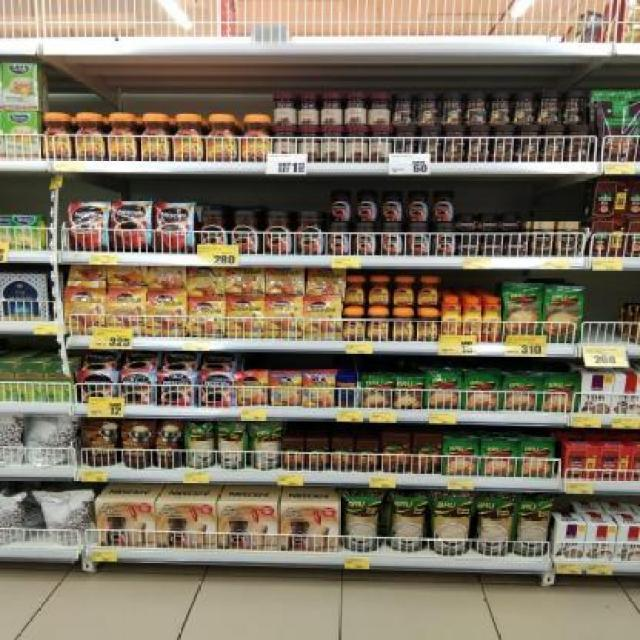Coffee: (64, 287, 106, 336), (69, 201, 109, 252), (156, 202, 195, 253), (114, 201, 151, 252), (108, 287, 146, 336), (148, 289, 187, 336), (205, 113, 238, 160), (228, 296, 264, 339), (305, 296, 340, 339), (189, 297, 226, 337), (268, 296, 301, 340), (173, 114, 203, 162), (137, 114, 168, 160), (74, 113, 104, 159), (243, 115, 272, 162), (43, 113, 72, 159), (107, 114, 136, 160), (158, 371, 194, 406), (80, 370, 114, 406), (201, 210, 228, 254), (265, 211, 291, 256), (231, 211, 258, 254), (199, 372, 233, 406), (299, 210, 325, 254), (120, 372, 154, 404), (271, 372, 301, 406), (305, 373, 334, 407), (237, 372, 267, 404), (484, 297, 502, 344), (442, 297, 460, 344), (463, 297, 480, 343), (330, 189, 353, 222), (433, 222, 456, 255), (354, 223, 376, 256), (406, 223, 428, 256), (381, 222, 402, 256), (356, 190, 378, 221), (382, 190, 404, 221), (408, 191, 430, 222), (392, 275, 414, 306), (368, 309, 390, 340), (559, 222, 579, 256), (327, 222, 348, 254), (417, 308, 438, 340), (534, 221, 553, 256), (344, 308, 364, 340), (434, 191, 455, 221), (418, 276, 439, 306), (394, 308, 413, 340), (347, 277, 366, 306), (370, 276, 388, 306), (506, 236, 528, 257), (459, 233, 479, 256), (483, 235, 500, 256), (480, 214, 498, 233), (458, 213, 476, 230), (503, 214, 520, 232)
